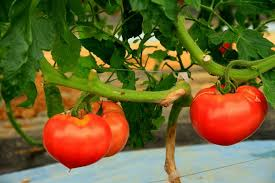tomato: (191, 84, 267, 145), (43, 111, 109, 166), (78, 100, 128, 158)
